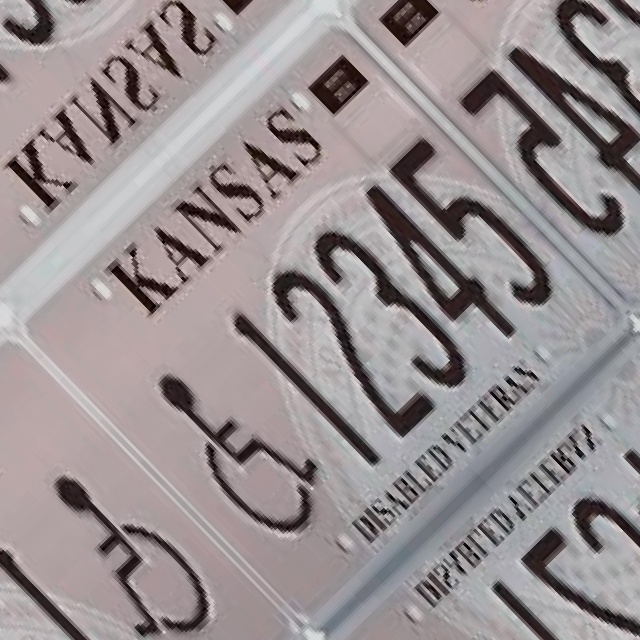ISA: (116, 324, 360, 570), (3, 434, 246, 640), (384, 600, 628, 640)
